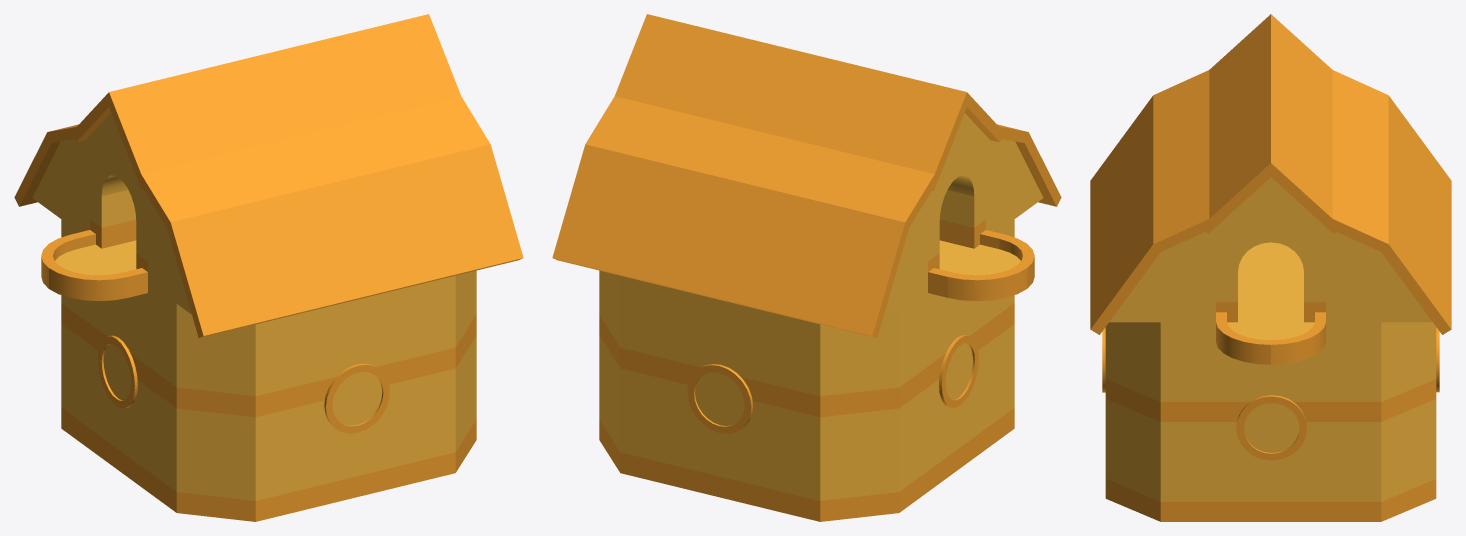
The model's file is roof-arches.fbx.
The picture shows the model from 3 angles, left to right: view 1: azimuth 30°, elevation 25°; view 2: azimuth 150°, elevation 25°; view 3: azimuth 270°, elevation 25°; orthographic projection. The views are drawn at different scales.
Parts seen in each view (by area): view 1: mergedBlocks; view 2: mergedBlocks; view 3: mergedBlocks.
Boxes of the visible parts, x1,y1,x2,y2 form: mergedBlocks: [14, 14, 523, 521]; mergedBlocks: [552, 14, 1061, 521]; mergedBlocks: [1090, 14, 1451, 521].
Bounding box in the file's own units: 44 × 36.41 × 32.77.
